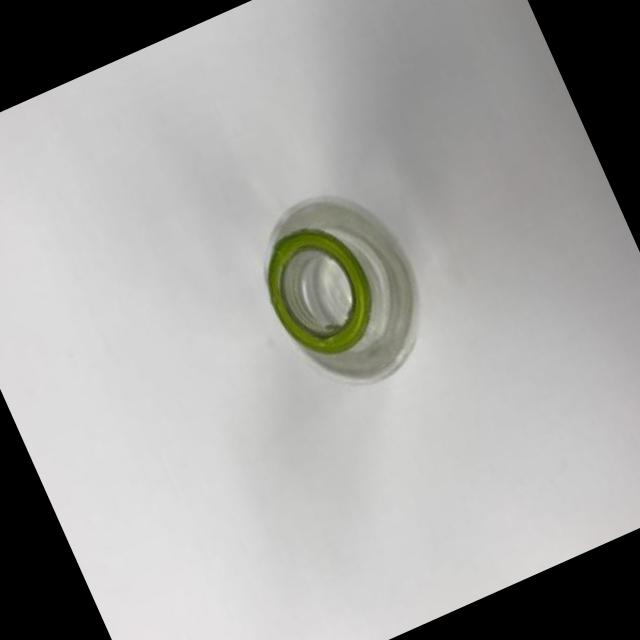BotolKaca: (236, 172, 450, 412)
